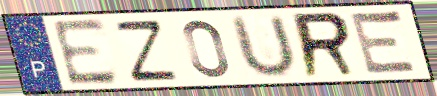0: (181, 18, 232, 79)
E: (49, 17, 122, 89), (348, 9, 423, 77)
R: (290, 10, 361, 81)
U: (229, 12, 299, 80)
Z: (111, 17, 181, 84)
